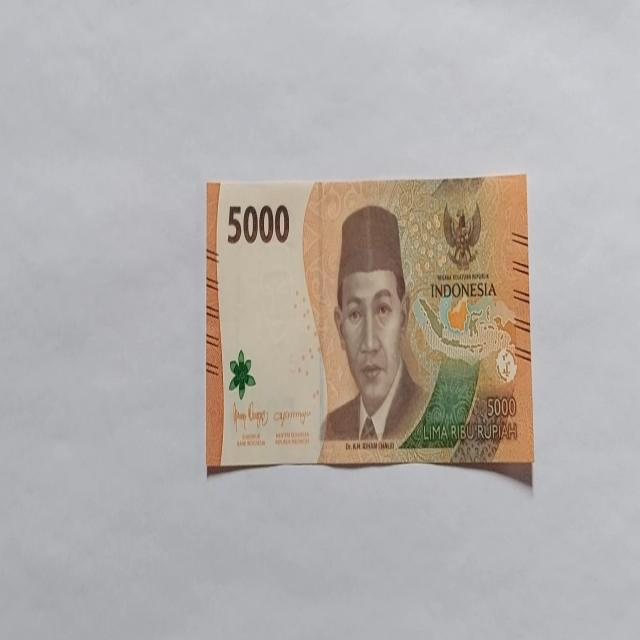lima ribu rupiah: (205, 174, 533, 478), (318, 204, 429, 448)
